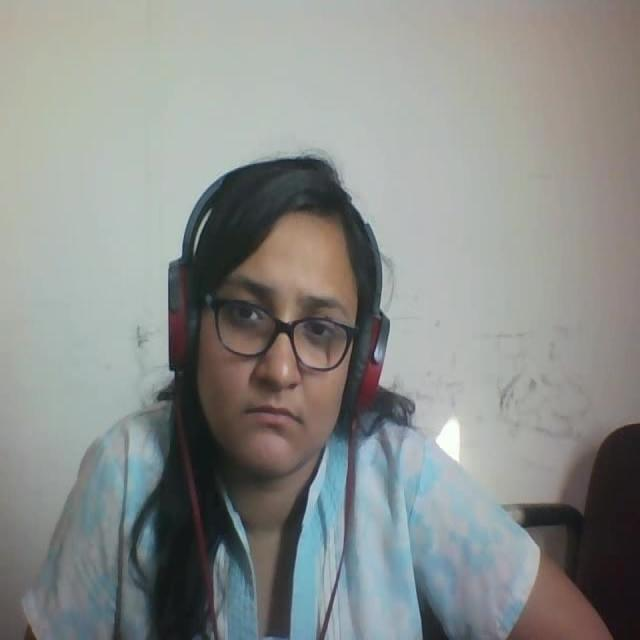Engaged: (146, 119, 422, 525)
